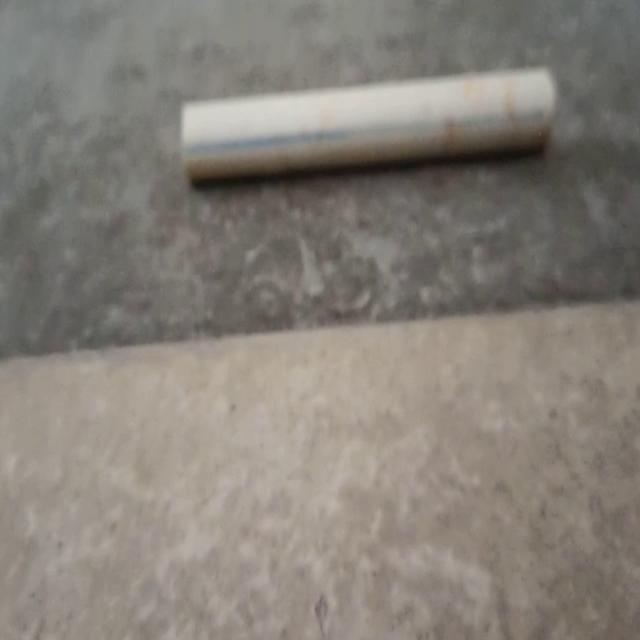Cube: (179, 63, 557, 183)
